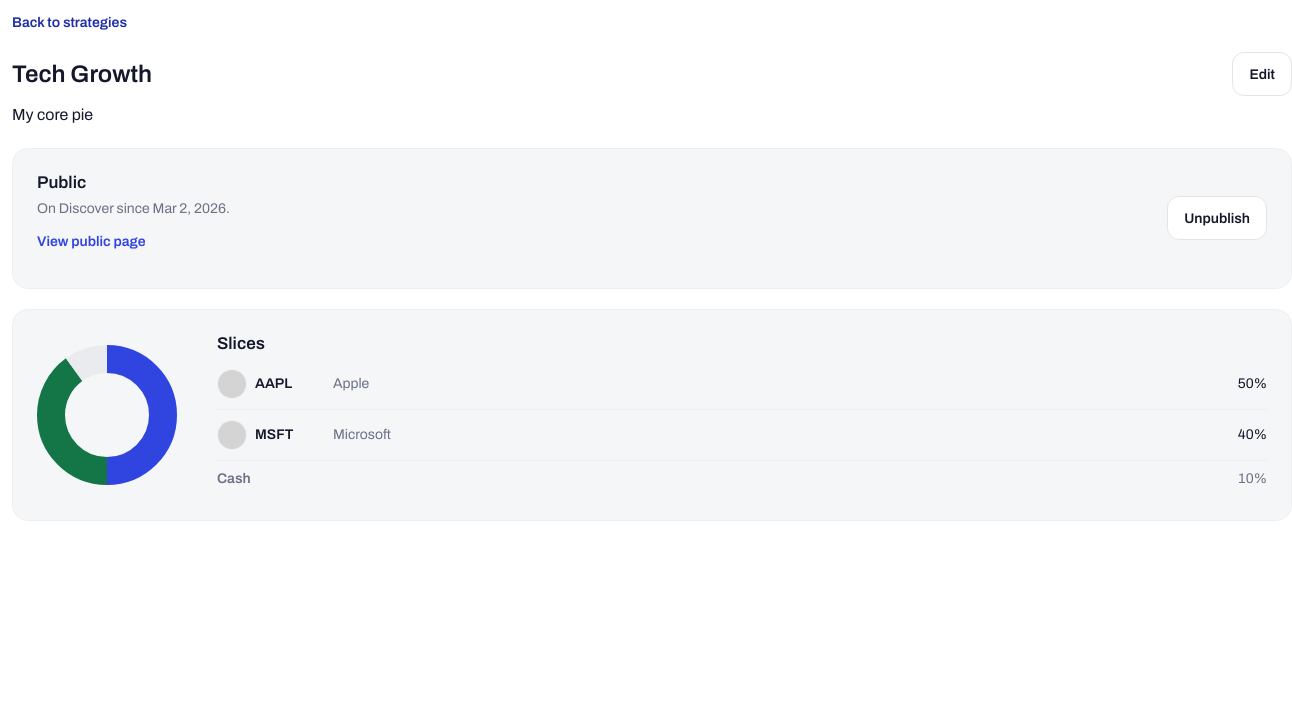
Test: PieDetailComponent › shows an error when unpublishing fails
The image size is (1292, 720).
Click the button "Unpublish" at (1217, 218), box left=1167, top=196, right=1267, bottom=240
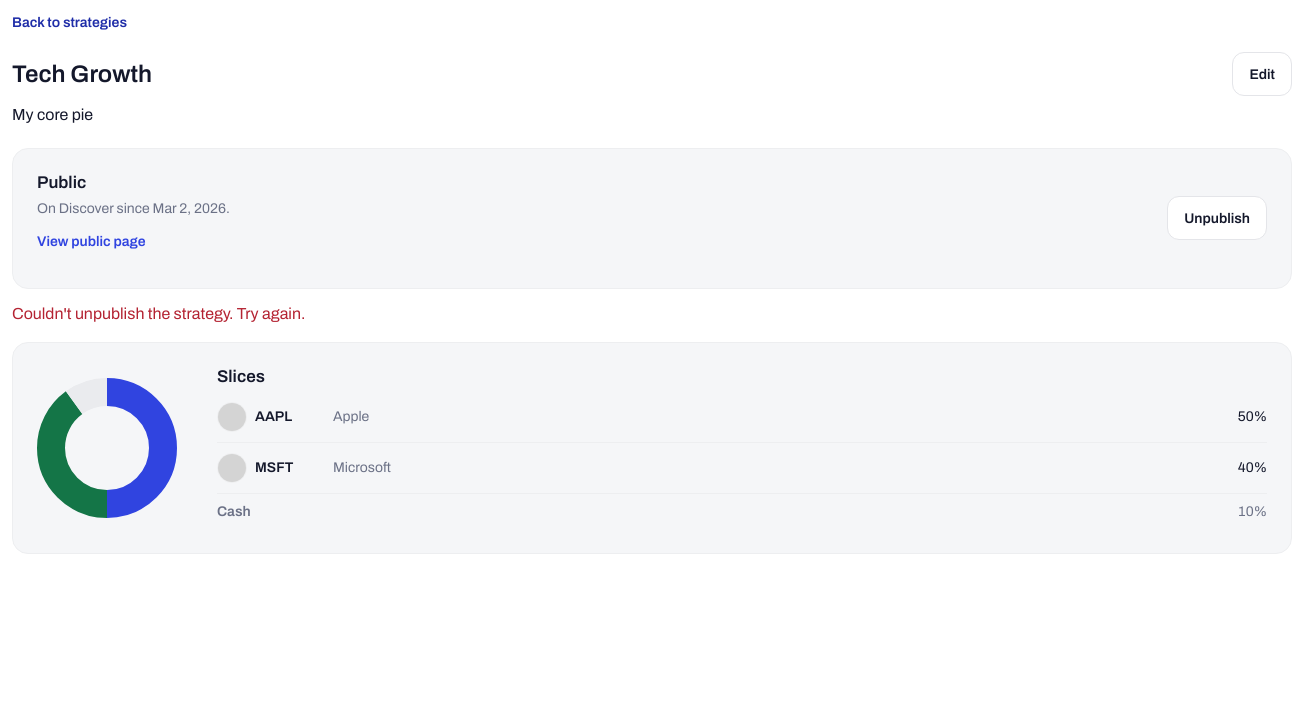
Check: the heading "Public" is shown, box left=37, top=173, right=86, bottom=192
Check: the message "Couldn't unpublish the strategy. Try again." is shown, box left=12, top=305, right=305, bottom=322
